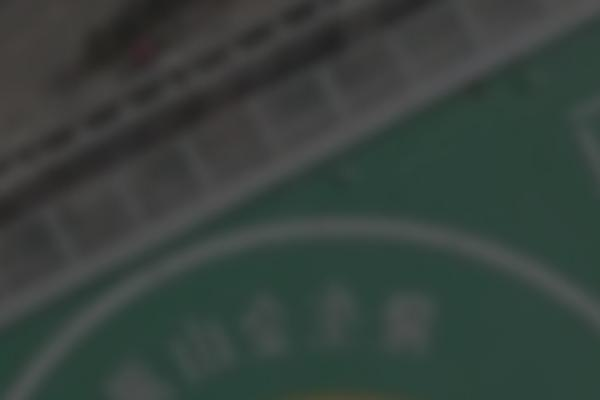Apron: (21, 207, 600, 400)
